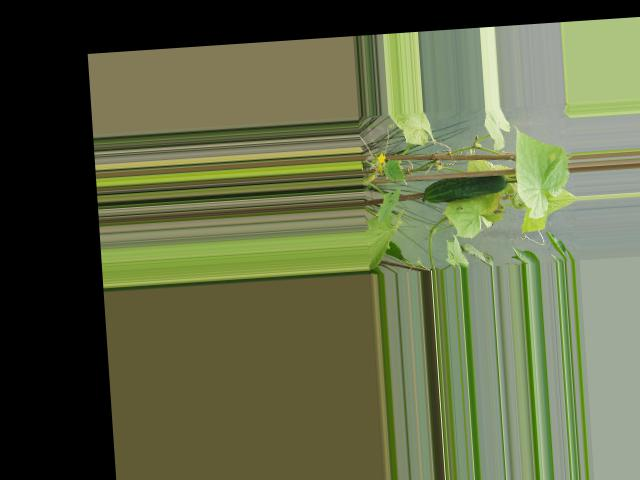cucumber: (421, 173, 508, 204)
